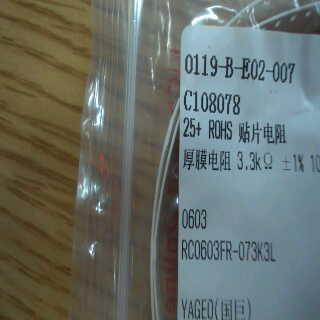3.3kO: (234, 149, 280, 176)
